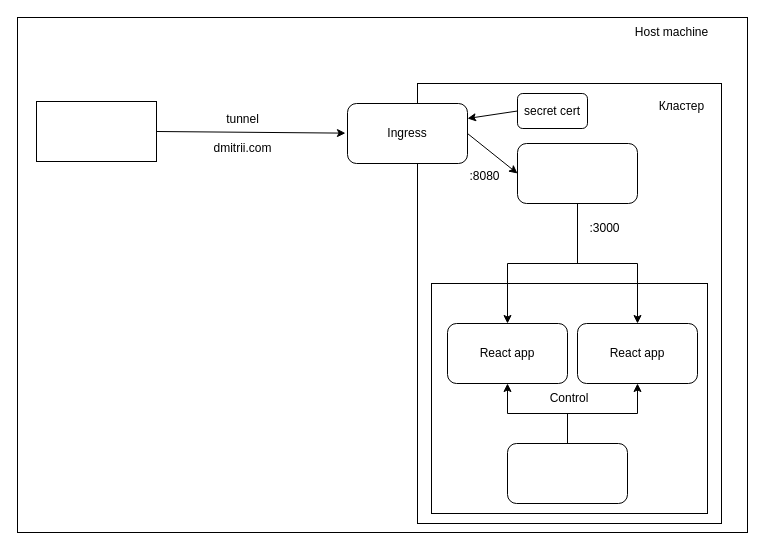
This 765x550 diagram has some shape labels left out. Here are the shapes that lost their labels. From the top down, the centre of each, then its label:
At [96,131]: "Браузер".
At [577,173]: "Service".
At [567,473]: "Deployment".
